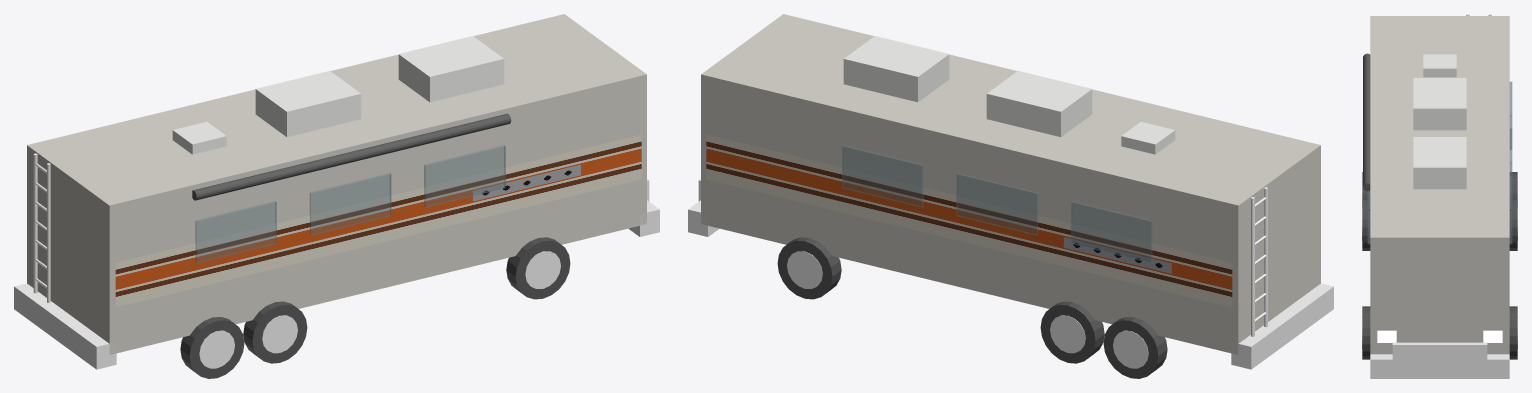
The model's file is fleetwood_bounder_rv.glb.
3 views of the same model, side by side, from view 1: azimuth 30°, elevation 25°; view 2: azimuth 150°, elevation 25°; view 3: azimuth 270°, elevation 25° (orthographic). The views are drawn at different scales.
Visible parts, largest first — view 1: Crystal_Ship_RV_body, Crystal_Ship_RV_stripe_R, Crystal_Ship_RV_ac_-0.5, Crystal_Ship_RV_ac_2.0, Crystal_Ship_RV_awning, Crystal_Ship_RV_win_r_1.5, Crystal_Ship_RV_win_r_-0.5, Crystal_Ship_RV_win_r_-2.5, Crystal_Ship_RV_bumper_r, Crystal_Ship_RV_wf_r_tire, Crystal_Ship_RV_wr1_r_tire, Crystal_Ship_RV_wr2_r_tire (+7 smaller); view 2: Crystal_Ship_RV_body, Crystal_Ship_RV_stripe_L, Crystal_Ship_RV_ac_-0.5, Crystal_Ship_RV_ac_2.0, Crystal_Ship_RV_win_l_1.5, Crystal_Ship_RV_win_l_-0.5, Crystal_Ship_RV_win_l_-2.5, Crystal_Ship_RV_bumper_r, Crystal_Ship_RV_wf_l_tire, Crystal_Ship_RV_wr1_l_tire, Crystal_Ship_RV_wr2_l_tire, Crystal_Ship_RV_vent1 (+6 smaller); view 3: Crystal_Ship_RV_body, Crystal_Ship_RV_bullbar, Crystal_Ship_RV_ac_-0.5, Crystal_Ship_RV_ac_2.0, Crystal_Ship_RV_bumper_f, Crystal_Ship_RV_awning, Crystal_Ship_RV_vent1, Crystal_Ship_RV_wf_l_tire, Crystal_Ship_RV_wf_r_tire, Crystal_Ship_RV_wr1_l_tire, Crystal_Ship_RV_wr1_r_tire, Crystal_Ship_RV_win_l_1.5 (+6 smaller).
Boxes of the visible parts, box(x1,y1,x2,y2) form: Crystal_Ship_RV_body: box(27, 14, 646, 354); Crystal_Ship_RV_stripe_R: box(115, 134, 641, 307); Crystal_Ship_RV_ac_-0.5: box(255, 71, 361, 137); Crystal_Ship_RV_ac_2.0: box(398, 36, 504, 102); Crystal_Ship_RV_awning: box(192, 113, 511, 200); Crystal_Ship_RV_win_r_1.5: box(424, 145, 505, 207); Crystal_Ship_RV_win_r_-0.5: box(310, 173, 391, 235); Crystal_Ship_RV_win_r_-2.5: box(195, 201, 276, 263); Crystal_Ship_RV_bumper_r: box(14, 283, 116, 369); Crystal_Ship_RV_wf_r_tire: box(506, 237, 570, 299); Crystal_Ship_RV_wr1_r_tire: box(243, 301, 307, 363); Crystal_Ship_RV_wr2_r_tire: box(180, 317, 244, 378); Crystal_Ship_RV_body: box(701, 14, 1320, 354); Crystal_Ship_RV_stripe_L: box(706, 134, 1232, 307); Crystal_Ship_RV_ac_-0.5: box(986, 71, 1092, 137); Crystal_Ship_RV_ac_2.0: box(843, 36, 949, 102); Crystal_Ship_RV_win_l_1.5: box(842, 145, 923, 207); Crystal_Ship_RV_win_l_-0.5: box(956, 173, 1037, 235); Crystal_Ship_RV_win_l_-2.5: box(1071, 201, 1152, 263); Crystal_Ship_RV_bumper_r: box(1231, 283, 1333, 369); Crystal_Ship_RV_wf_l_tire: box(777, 237, 841, 299); Crystal_Ship_RV_wr1_l_tire: box(1040, 301, 1104, 363); Crystal_Ship_RV_wr2_l_tire: box(1103, 317, 1167, 378); Crystal_Ship_RV_vent1: box(1121, 121, 1175, 154); Crystal_Ship_RV_body: box(1370, 16, 1509, 354); Crystal_Ship_RV_bullbar: box(1392, 342, 1487, 372); Crystal_Ship_RV_ac_-0.5: box(1413, 78, 1466, 130); Crystal_Ship_RV_ac_2.0: box(1413, 137, 1466, 189); Crystal_Ship_RV_bumper_f: box(1370, 354, 1509, 378); Crystal_Ship_RV_awning: box(1363, 53, 1370, 191); Crystal_Ship_RV_vent1: box(1423, 54, 1456, 77); Crystal_Ship_RV_wf_l_tire: box(1509, 306, 1517, 359); Crystal_Ship_RV_wf_r_tire: box(1362, 306, 1370, 359); Crystal_Ship_RV_wr1_l_tire: box(1509, 197, 1517, 250); Crystal_Ship_RV_wr1_r_tire: box(1362, 197, 1370, 250); Crystal_Ship_RV_win_l_1.5: box(1509, 176, 1512, 244).
Size of the model in its own units: 9.9 by 3.68 by 2.79.
10 materials, 1 textured.
